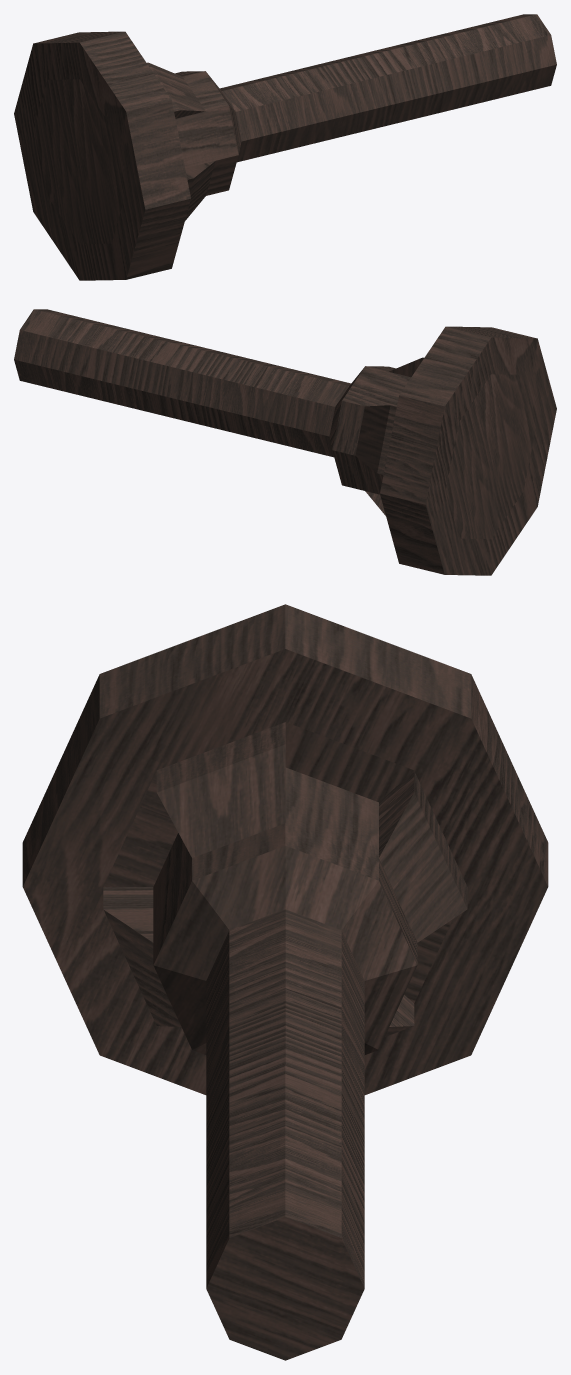
Rendered from wall_torch.glb.
The picture shows the model from 3 angles, top to bottom: view 1: azimuth 30°, elevation 25°; view 2: azimuth 150°, elevation 25°; view 3: azimuth 270°, elevation 25°; orthographic projection. The views are drawn at different scales.
Parts seen in each view (by area): view 1: Cylinder.002; view 2: Cylinder.002; view 3: Cylinder.002.
Part boxes in pixels (left/top/right/bottom): Cylinder.002: left=14, top=14, right=556, bottom=280; Cylinder.002: left=14, top=309, right=556, bottom=575; Cylinder.002: left=22, top=604, right=548, bottom=1360.
Bounding box in the file's own units: 0.4 × 0.1989 × 0.1989.
1 material, 1 textured.
